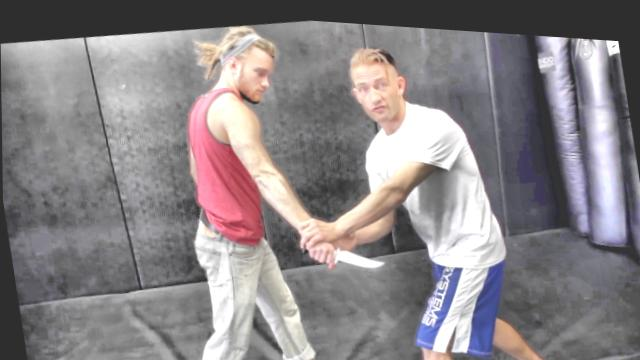knife: (297, 229, 390, 278)
